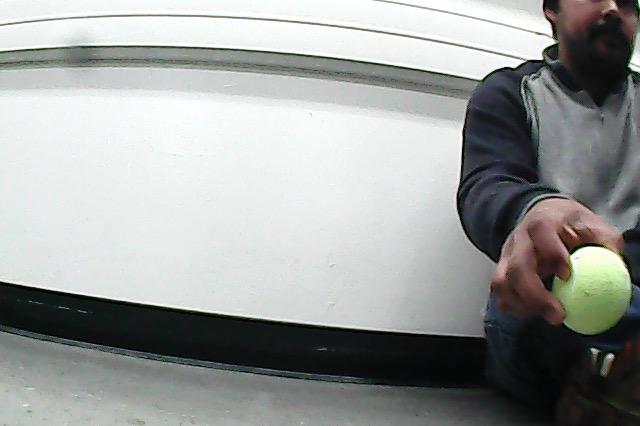ball: (550, 238, 634, 337)
